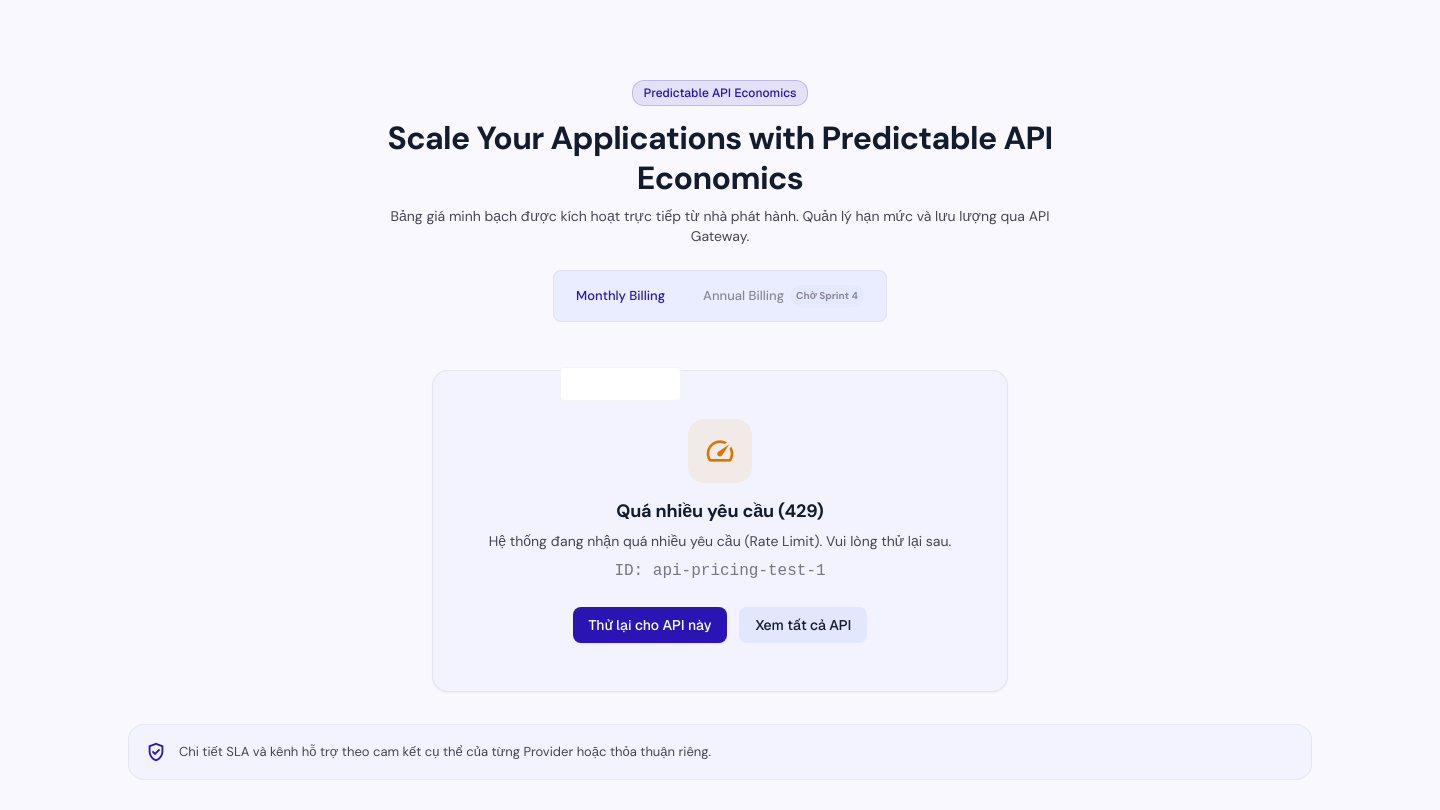
it: PricingPage - Audit Remediation & Price Immutability › recovers from 429 rate limit on retry: first 429 -> retry -> 200 -> pricing visible and error hidden
The width and height of the screenshot is (1440, 810).
Check: the heading "Quá nhiều yêu cầu (429)" is shown, box [616, 499, 824, 523]
Check: the text "Cloud Payment Engine" is not shown
// Click retry button
Click the button "Thử lại cho API này" at (650, 625), box [572, 607, 727, 643]
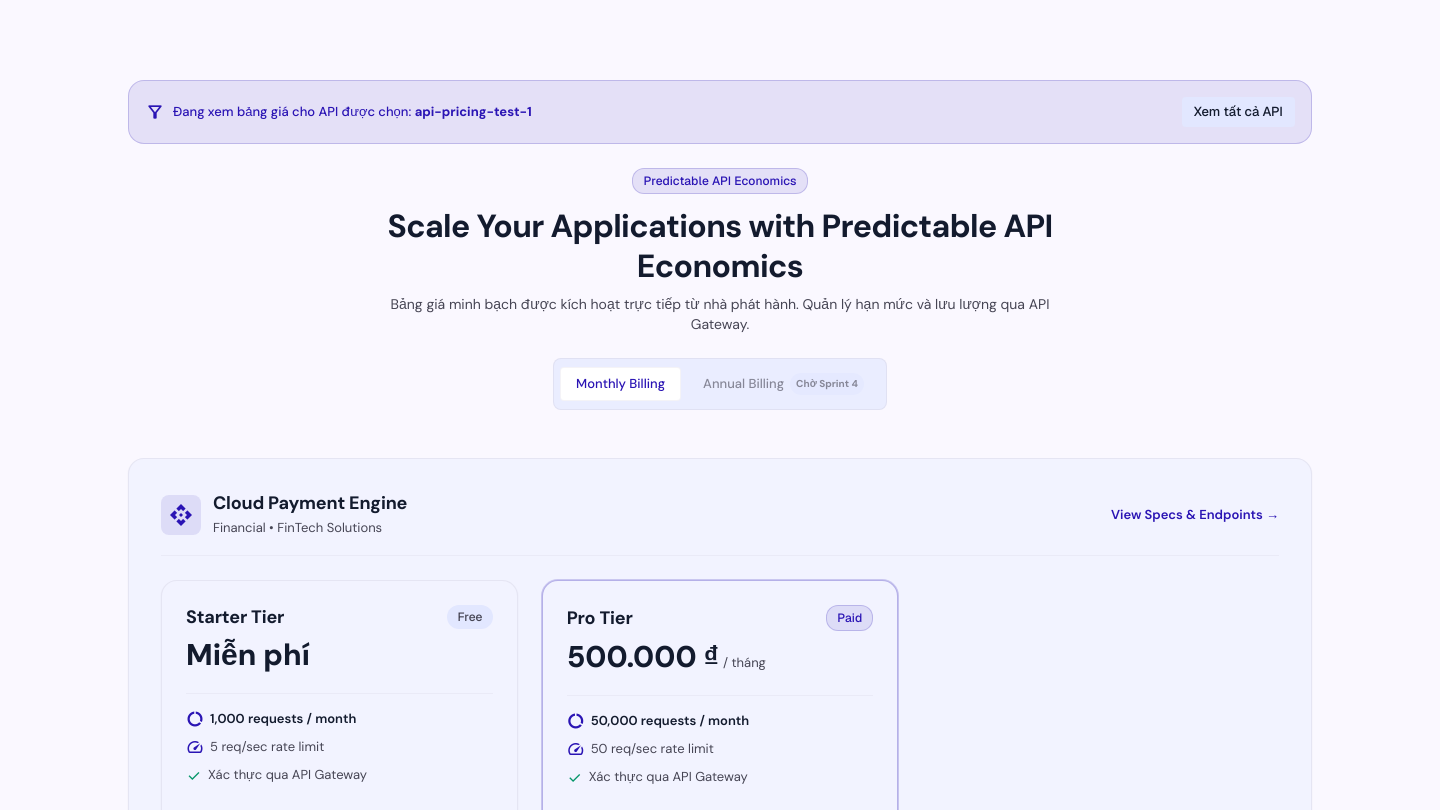
Check: the heading "Cloud Payment Engine" is shown, box [213, 491, 407, 515]
Check: the text "500.000 ₫" is shown, box [567, 639, 719, 675]
Check: the heading "Quá nhiều yêu cầu (429)" is gone
